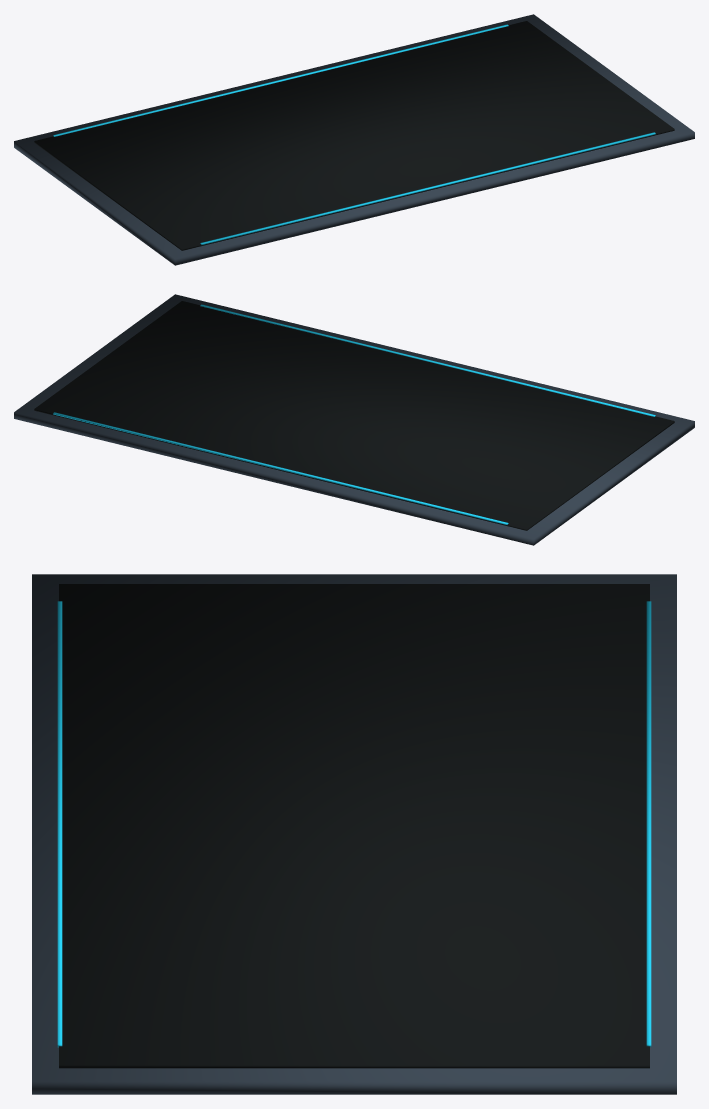
File: 01_L94_AntiStaticWorkSurface.fbx
3 views of the same model, one above another, from view 1: azimuth 30°, elevation 25°; view 2: azimuth 150°, elevation 25°; view 3: azimuth 270°, elevation 25° (orthographic). The views are drawn at different scales.
Visible parts, largest first — view 1: L94_AntiStaticWorkSurface; view 2: L94_AntiStaticWorkSurface; view 3: L94_AntiStaticWorkSurface.
Boxes of the visible parts, bbox=[...] form: L94_AntiStaticWorkSurface: bbox=[14, 14, 694, 265]; L94_AntiStaticWorkSurface: bbox=[14, 294, 694, 545]; L94_AntiStaticWorkSurface: bbox=[32, 574, 676, 1094].
Size of the model in its own units: 538 by 9.05 by 289.
